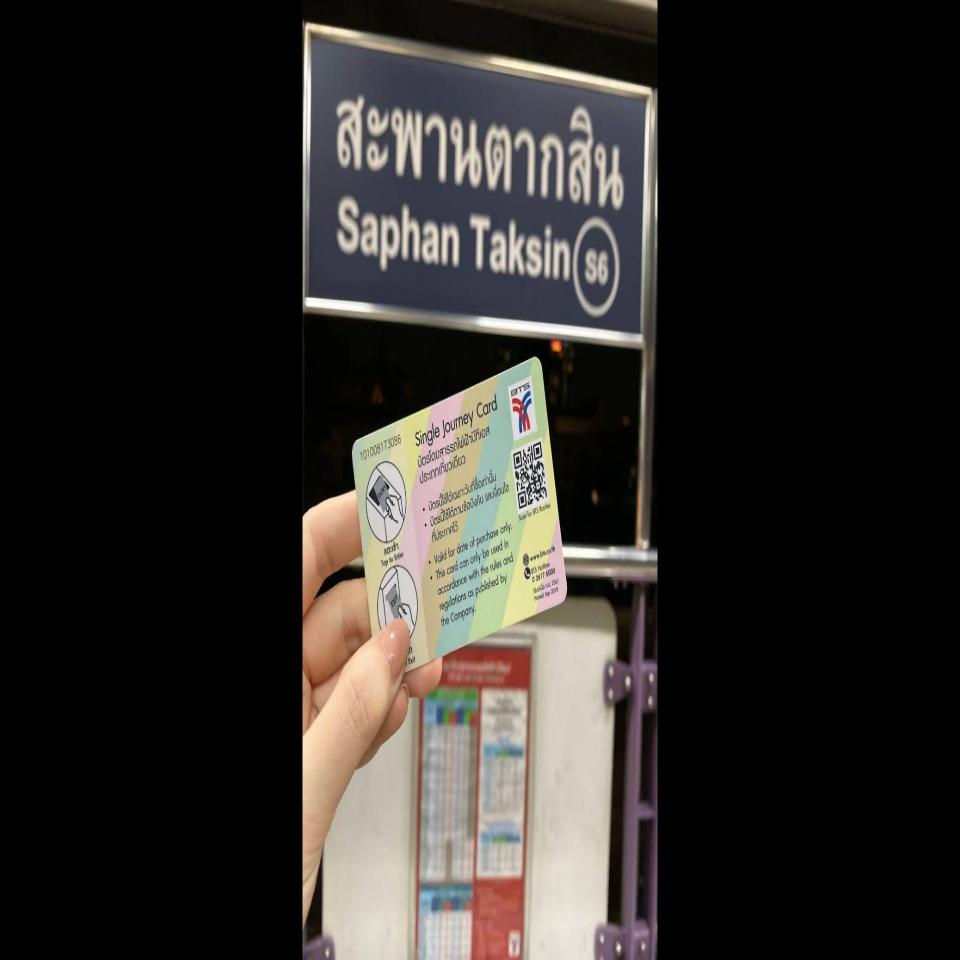signage: (302, 20, 654, 349)
